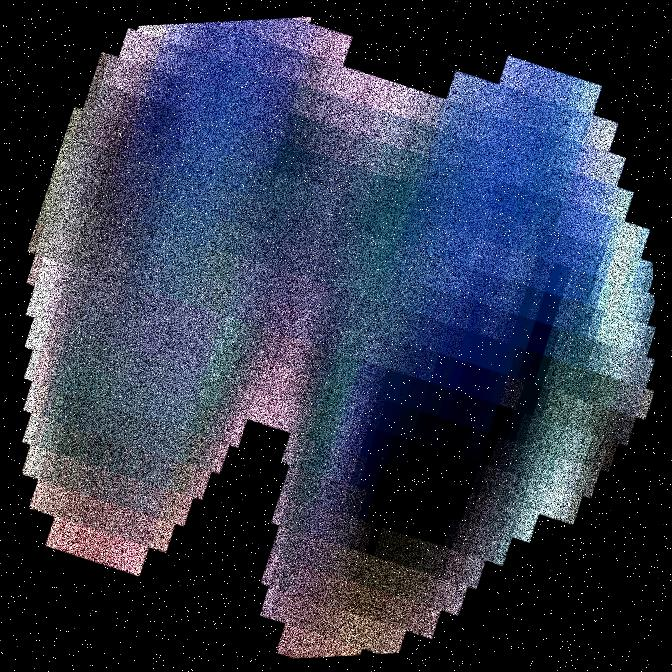Oculos: (324, 0, 538, 671)
